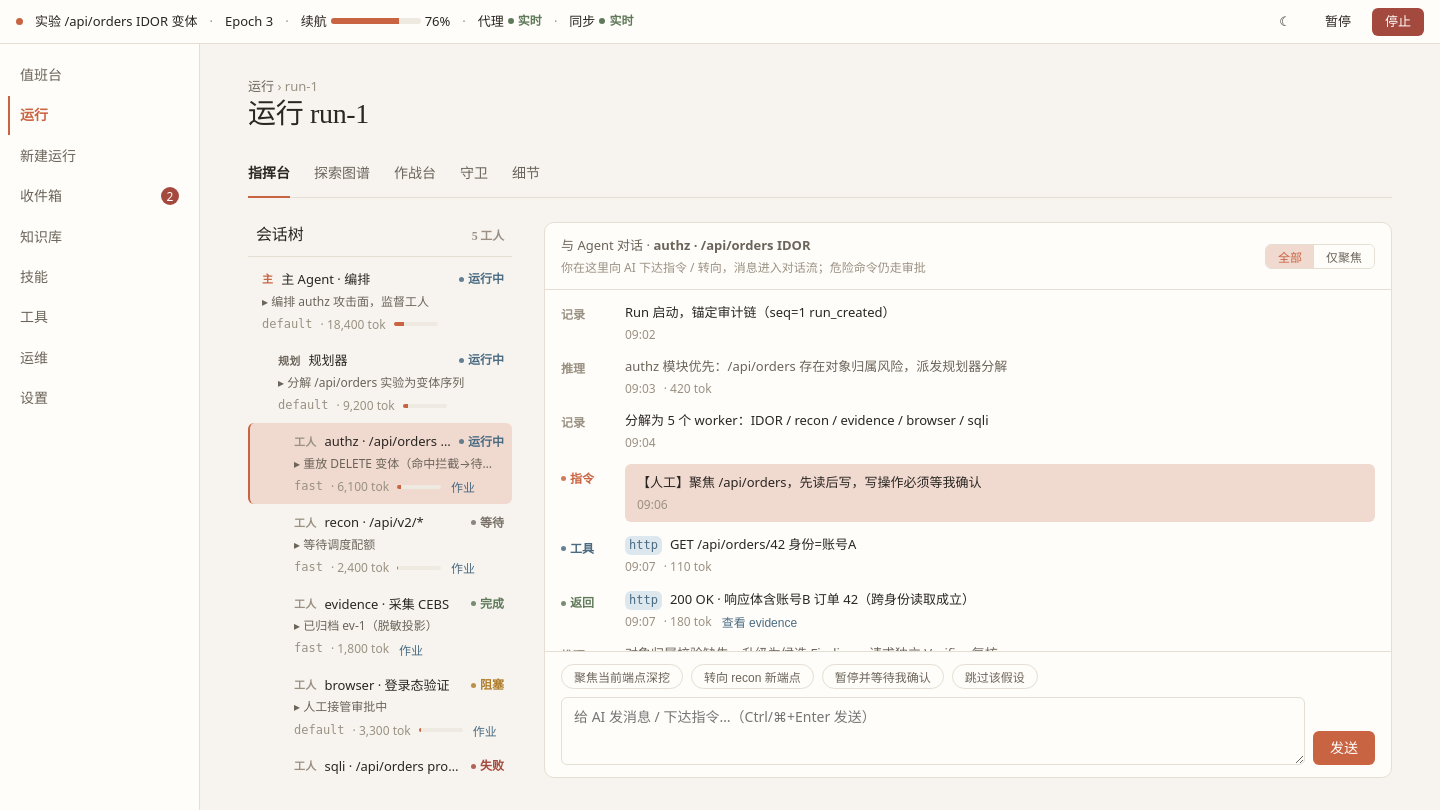
Test: App 外壳与导航 › 主模式切到「探索图谱 / 作战台 / 守卫」各渲染对应视图
Click the tab "探索图谱": [342, 172] box [314, 163, 370, 182]
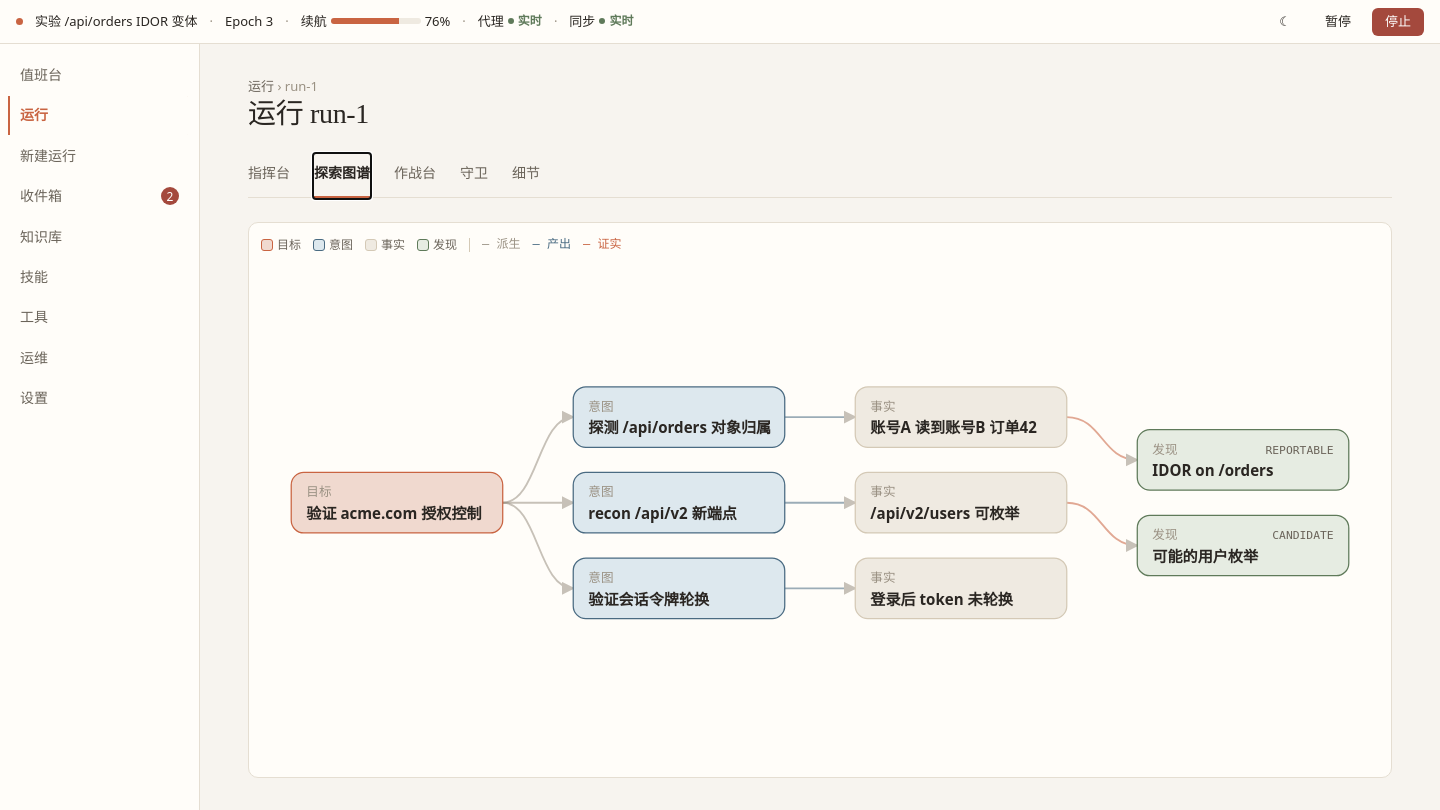
Check: the picture named "探索知识图谱" is shown, box [261, 266, 1379, 765]
Click the tab "作战台": [415, 172] box [394, 163, 436, 182]
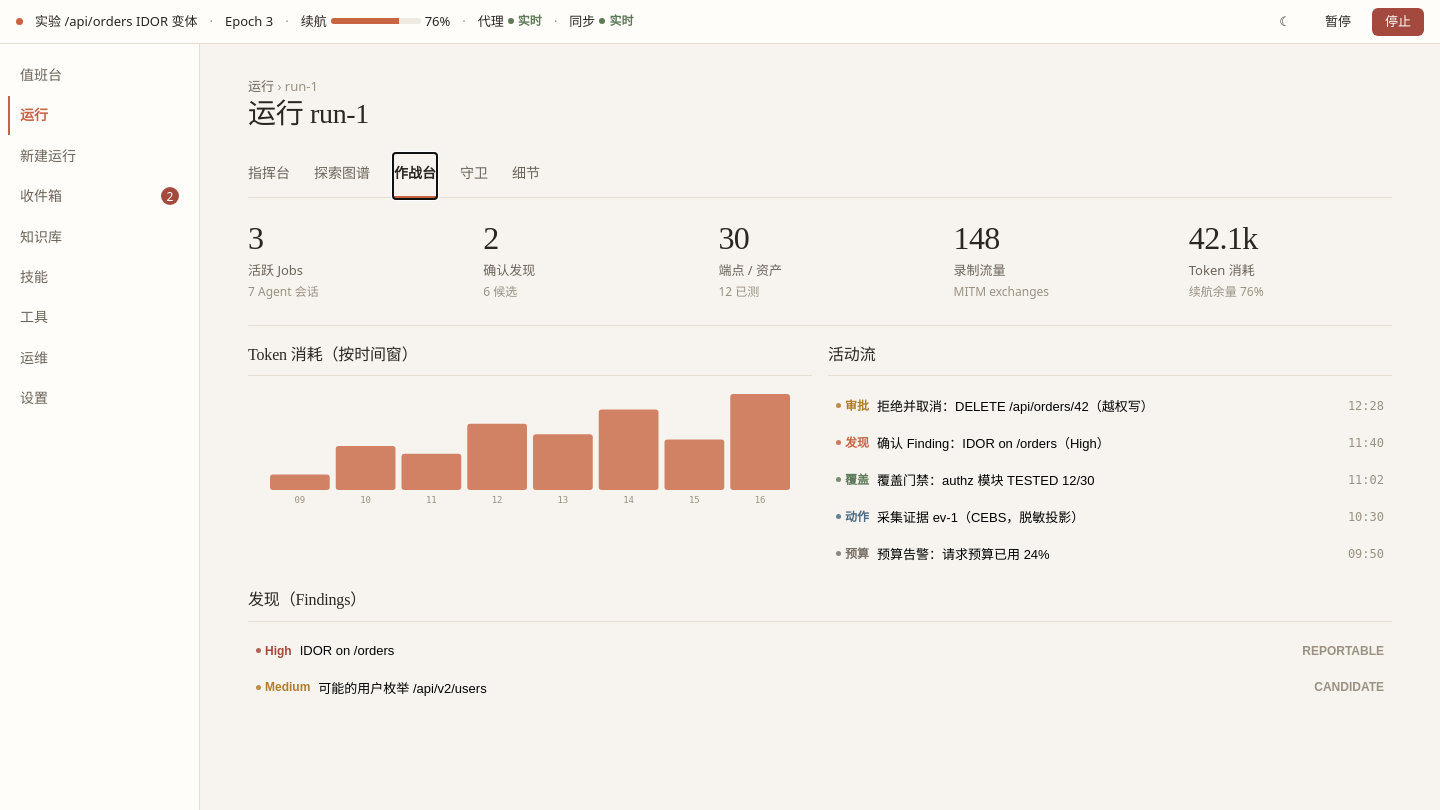
Check: the text "录制流量" is shown, box [954, 261, 1006, 279]
Click the tab "守卫": [474, 172] box [460, 163, 488, 182]
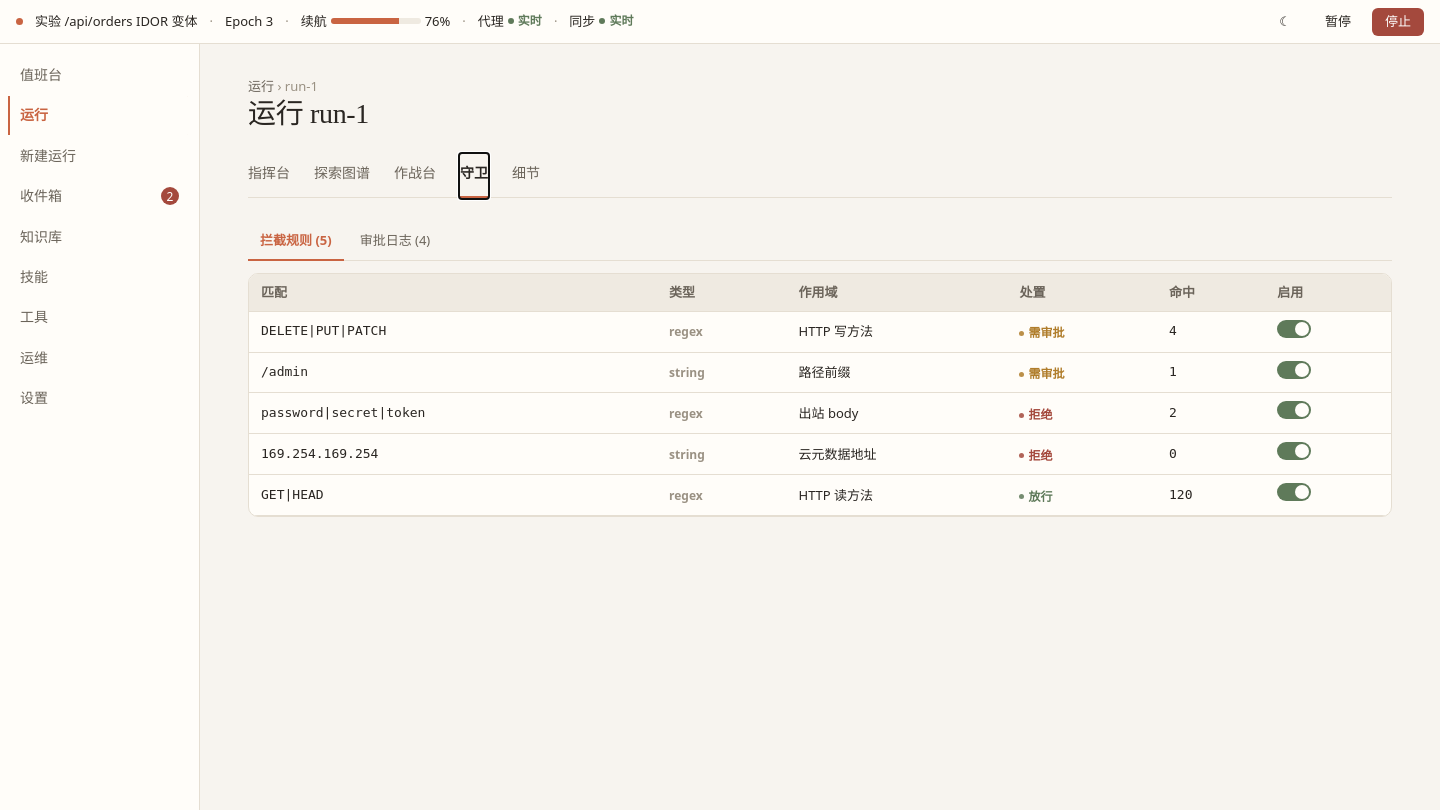
Check: the tab "拦截规则 (5)" is shown, box [248, 222, 344, 261]
